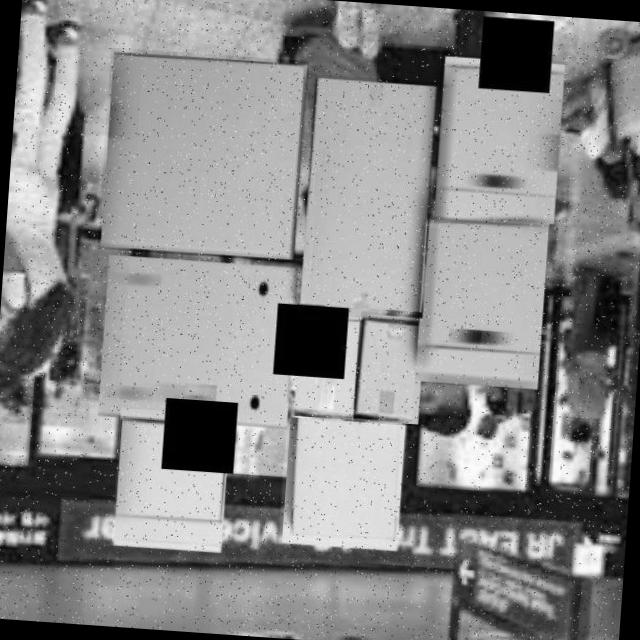box: (97, 47, 309, 262), (93, 252, 300, 430), (297, 74, 438, 314), (415, 212, 550, 391), (431, 52, 566, 226), (278, 414, 408, 552), (111, 407, 230, 552), (353, 310, 426, 426), (293, 313, 362, 420)
